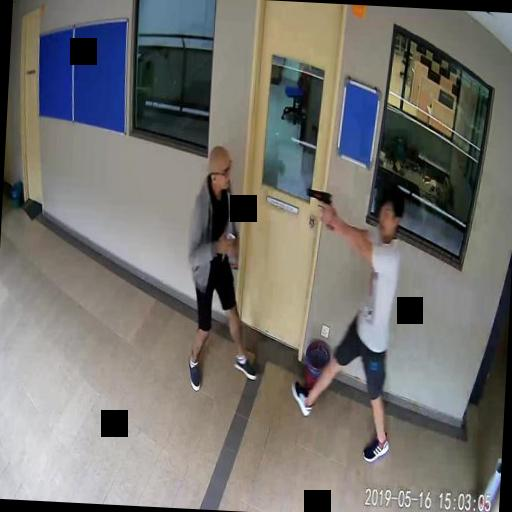Handgun: (304, 186, 331, 218)
